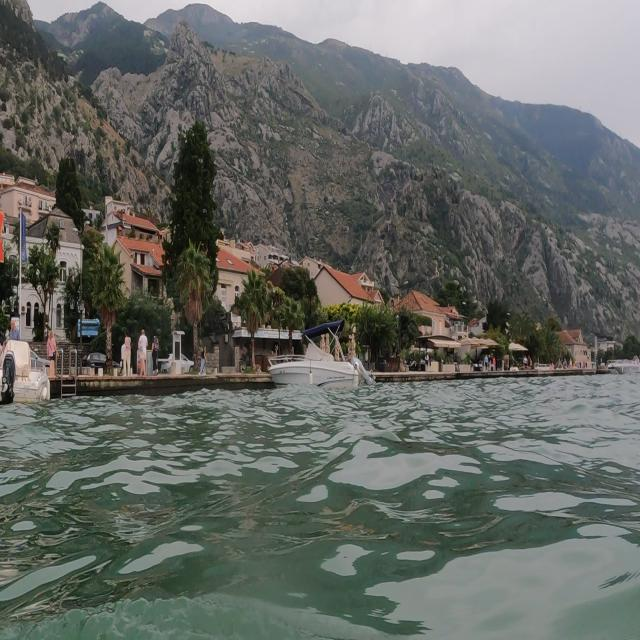boat: (265, 316, 374, 394)
